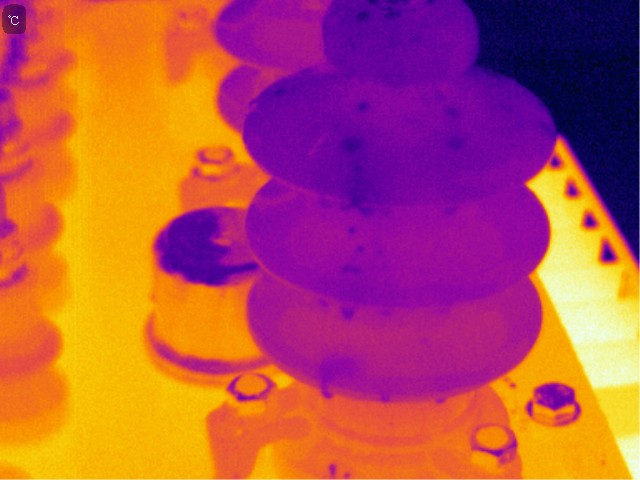Water: (342, 165, 376, 217), (320, 361, 338, 399), (338, 136, 369, 153), (338, 305, 364, 323), (445, 133, 467, 152), (337, 263, 364, 276), (539, 120, 554, 140), (271, 86, 293, 99), (444, 106, 463, 121), (353, 8, 371, 23), (353, 101, 374, 112), (384, 10, 400, 21), (377, 391, 394, 401), (433, 395, 449, 405), (345, 225, 360, 234)
